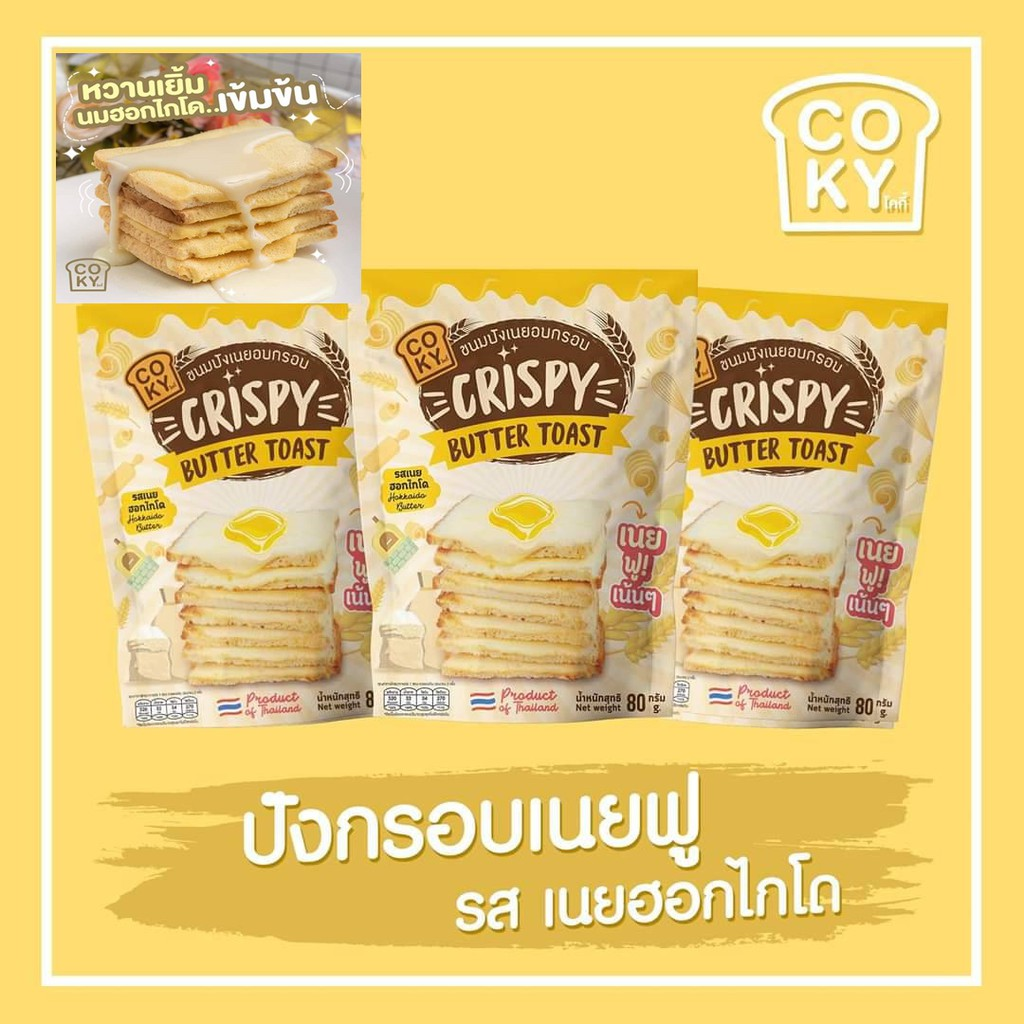Snack: (346, 255, 700, 735)
